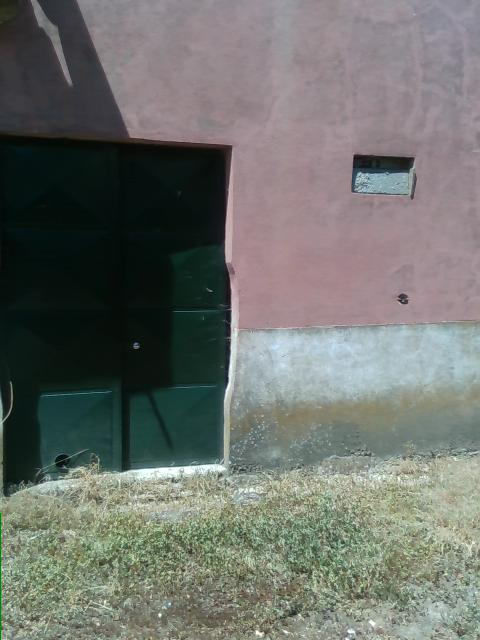door: (0, 122, 233, 489)
